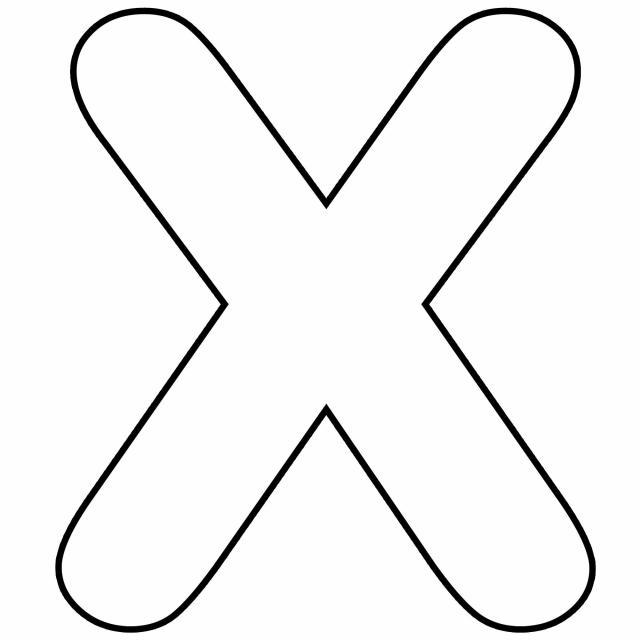X: (13, 0, 629, 638)
